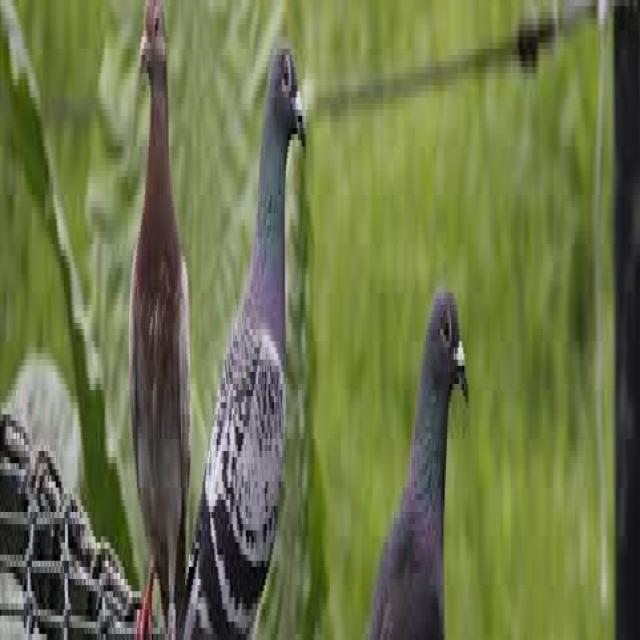pigeon: (122, 0, 200, 640)
